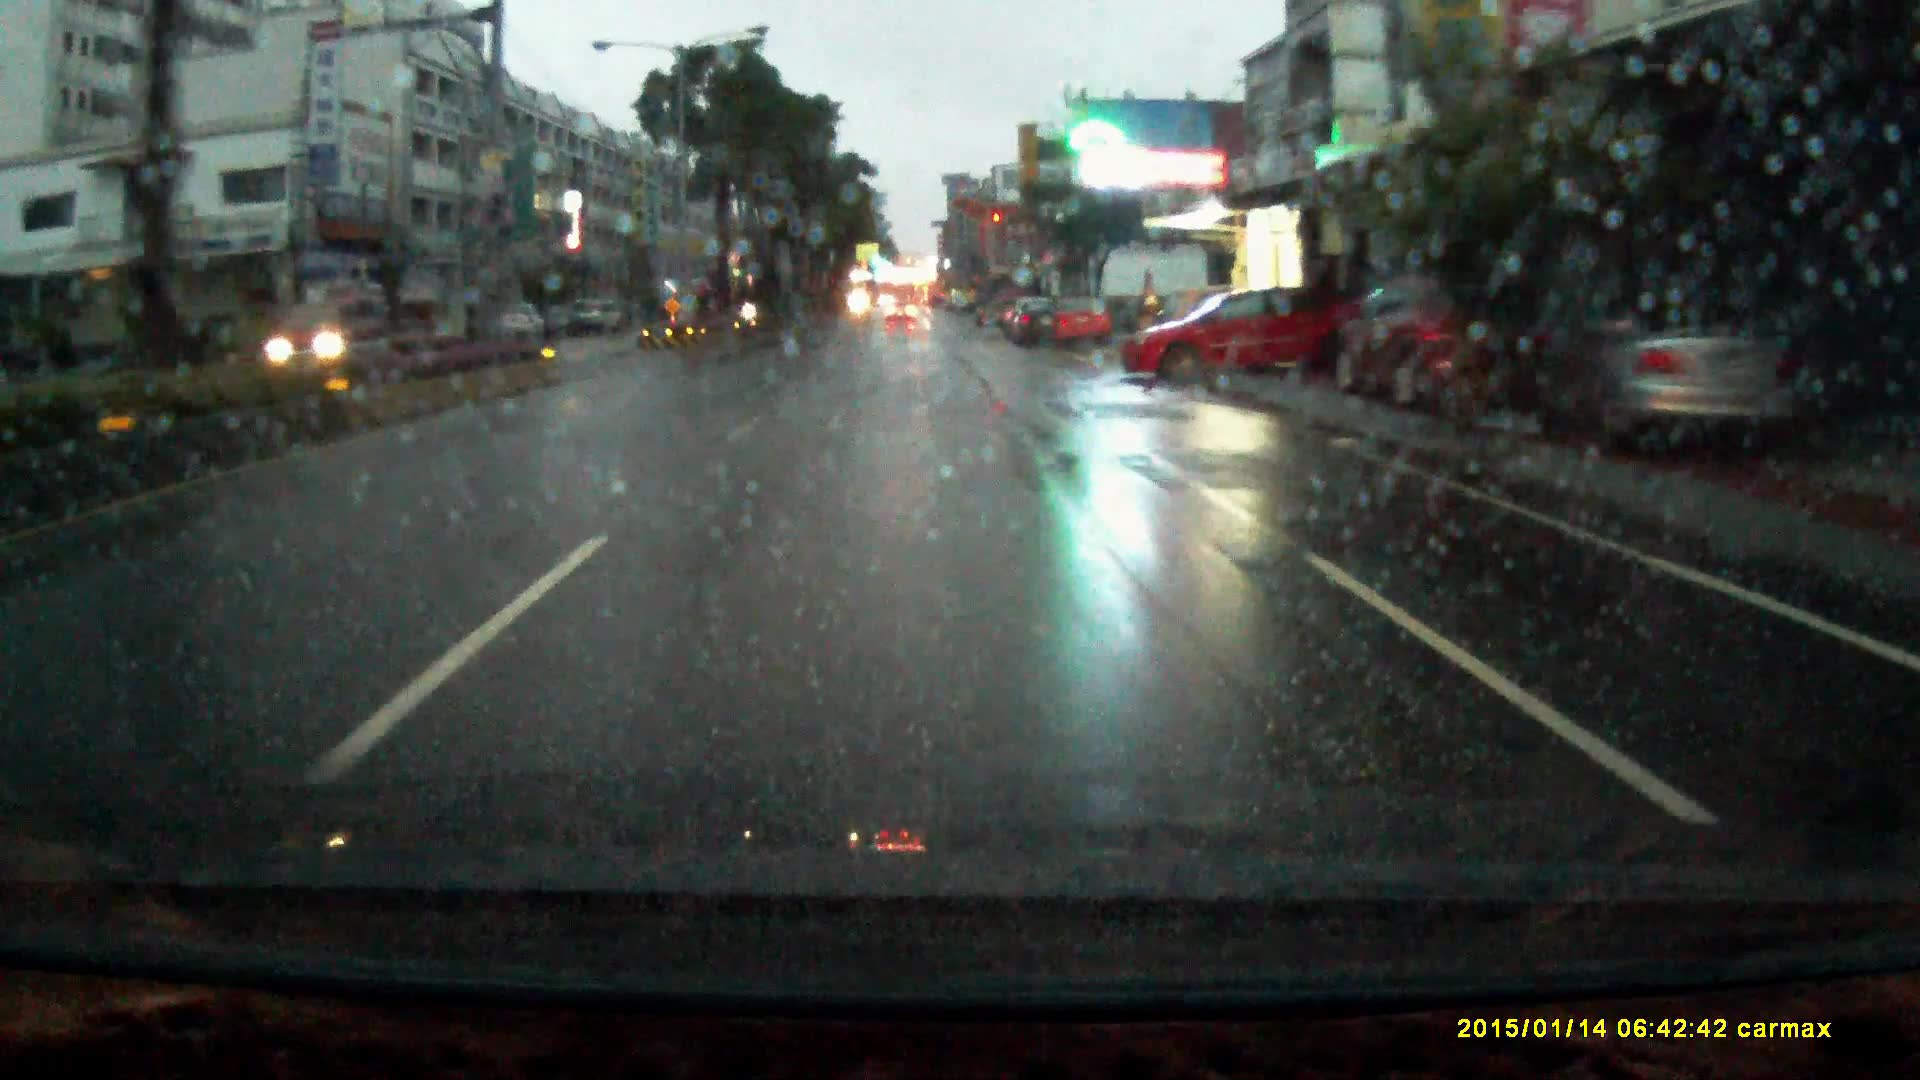vehicle: (1556, 294, 1812, 477), (1331, 276, 1568, 425), (1117, 291, 1362, 390), (252, 299, 390, 371), (1036, 302, 1116, 353), (1004, 302, 1062, 349), (574, 301, 625, 339), (886, 305, 916, 334)
